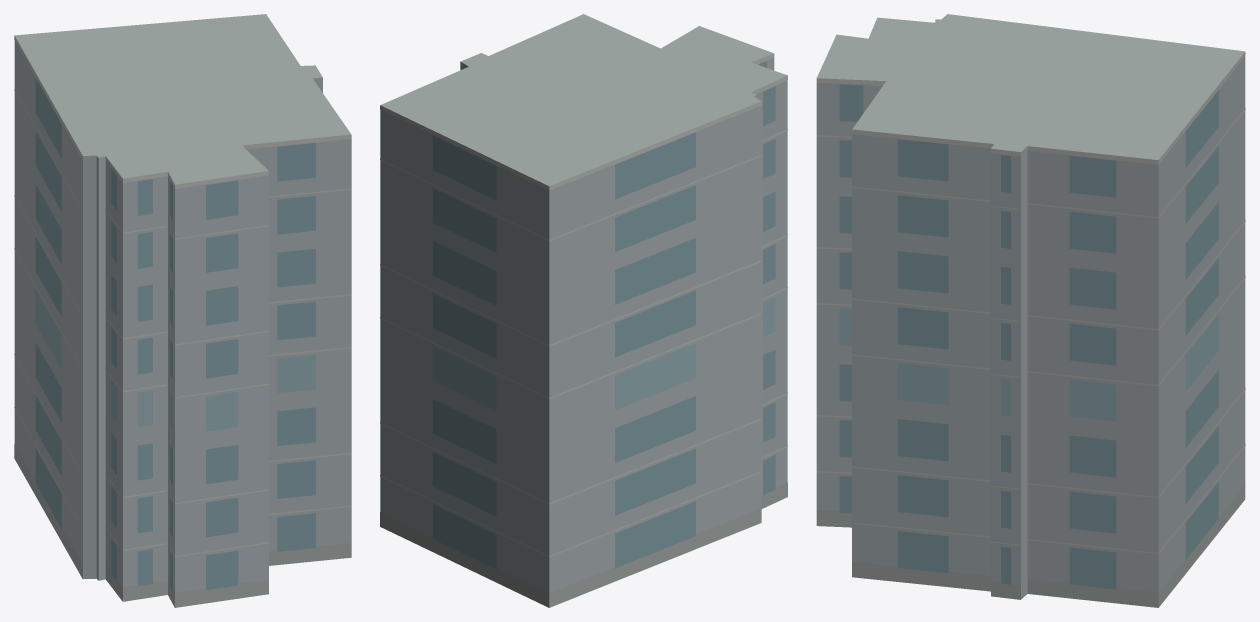
File: survey-upis-32770453.glb
The picture shows the model from 3 angles, left to right: view 1: azimuth 30°, elevation 25°; view 2: azimuth 150°, elevation 25°; view 3: azimuth 270°, elevation 25°; orthographic projection. The views are drawn at different scales.
Visible parts, largest first — view 1: survey-upis-32770453.tmp; view 2: survey-upis-32770453.tmp; view 3: survey-upis-32770453.tmp.
Boxes of the visible parts, left/top/right/bottom form: survey-upis-32770453.tmp: left=14, top=14, right=351, bottom=607; survey-upis-32770453.tmp: left=380, top=14, right=787, bottom=607; survey-upis-32770453.tmp: left=816, top=14, right=1245, bottom=607.
Bounding box in the file's own units: 16.4 × 23.4 × 20.33.
